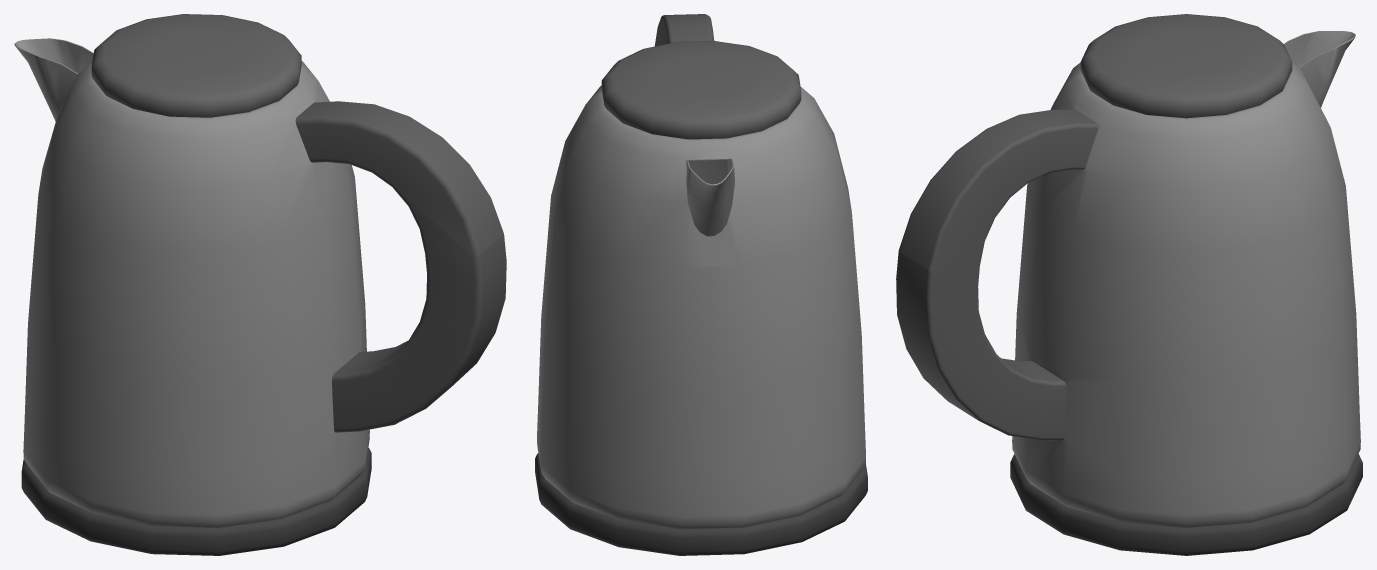
The model's file is Kettle.fbx.
3 renders of one model, left to right at view 1: azimuth 30°, elevation 25°; view 2: azimuth 150°, elevation 25°; view 3: azimuth 270°, elevation 25°, orthographic. The views are drawn at different scales.
Visible parts, largest first — view 1: Kettle; view 2: Kettle; view 3: Kettle.
Boxes of the visible parts, <box> form: Kettle: <box>14,14,506,555</box>; Kettle: <box>535,14,867,555</box>; Kettle: <box>896,14,1362,555</box>.
Bounding box in the file's own units: 28.49 × 35.35 × 34.58.
